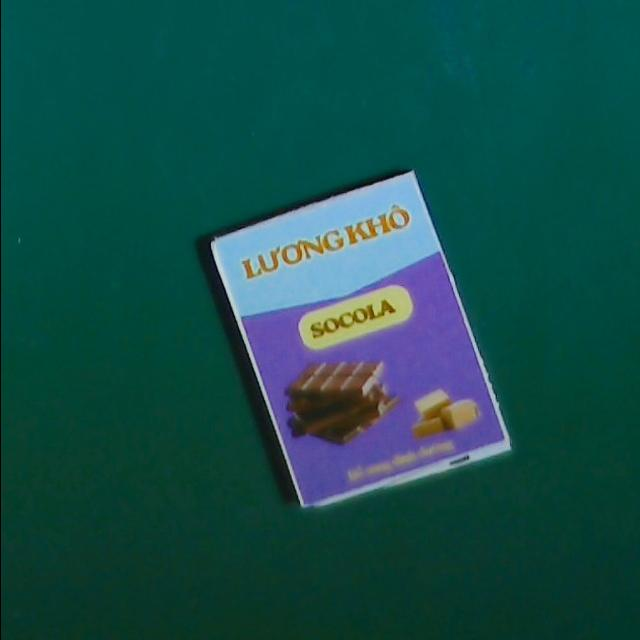socola: (205, 166, 513, 521)
